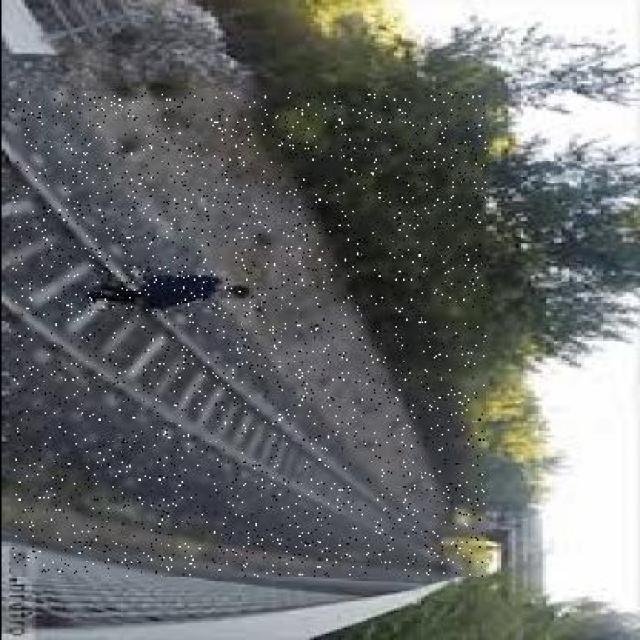danger: (86, 268, 262, 310)
rail: (11, 92, 484, 575)
